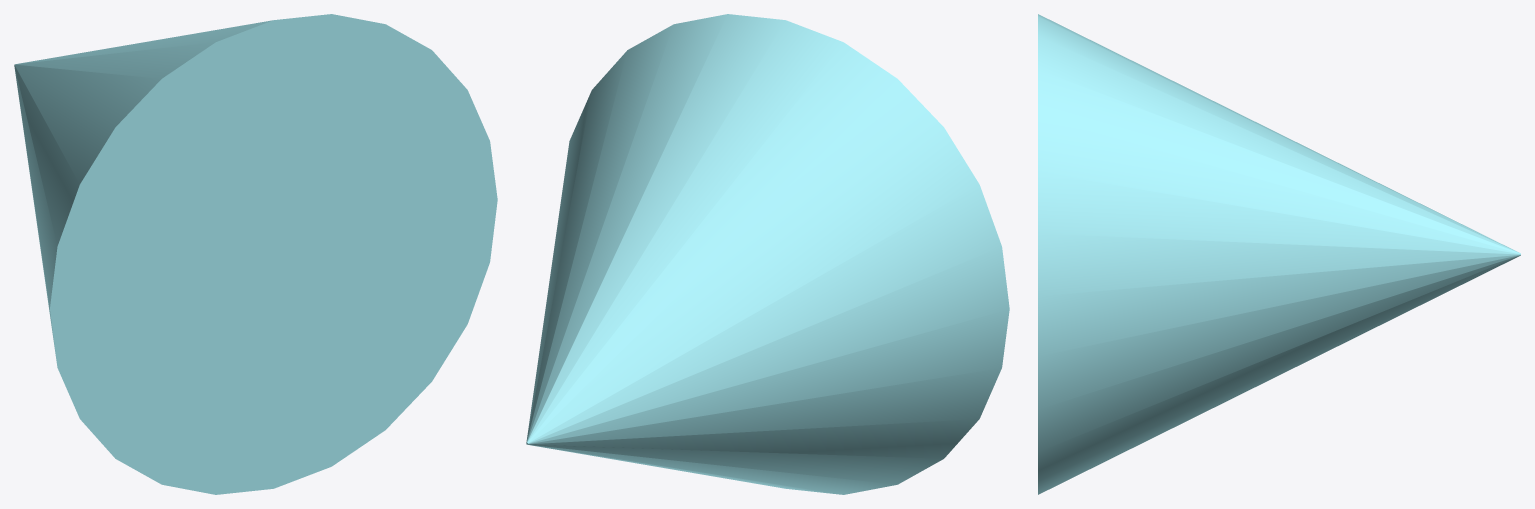
Rendered from vec_091.dae.
3 renders of one model, left to right at view 1: azimuth 30°, elevation 25°; view 2: azimuth 150°, elevation 25°; view 3: azimuth 270°, elevation 25°, orthographic. The views are drawn at different scales.
Parts seen in each view (by area): view 1: Model; view 2: Model; view 3: Model.
Boxes of the visible parts, bbox=[...] form: Model: bbox=[14, 14, 497, 494]; Model: bbox=[526, 14, 1009, 494]; Model: bbox=[1038, 14, 1520, 494].
Bounding box in the file's own units: 1 × 1 × 1.
